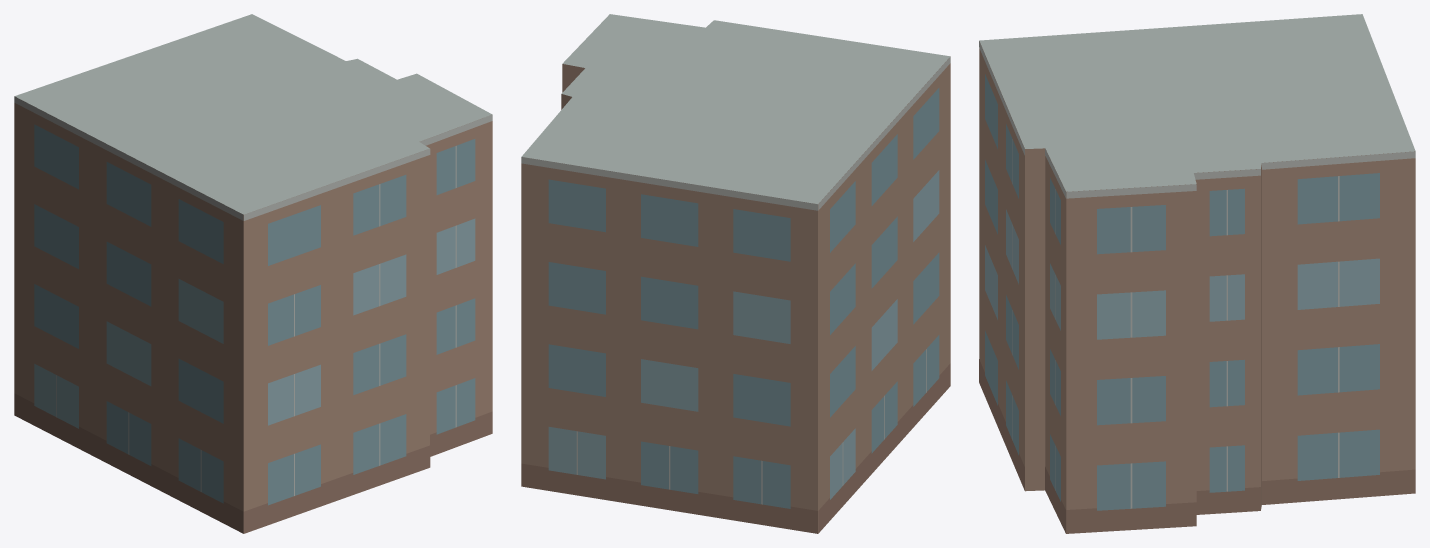
File: survey-upis-32761404.glb
The picture shows the model from 3 angles, left to right: view 1: azimuth 30°, elevation 25°; view 2: azimuth 150°, elevation 25°; view 3: azimuth 270°, elevation 25°; orthographic projection. The views are drawn at different scales.
Visible parts, largest first — view 1: survey-upis-32761404.tmp; view 2: survey-upis-32761404.tmp; view 3: survey-upis-32761404.tmp.
Part boxes in pixels (left/top/right/bottom): survey-upis-32761404.tmp: left=14, top=14, right=492, bottom=533; survey-upis-32761404.tmp: left=521, top=14, right=950, bottom=533; survey-upis-32761404.tmp: left=979, top=14, right=1415, bottom=533.
Size of the model in its own units: 13.61 by 12.2 by 14.12.
